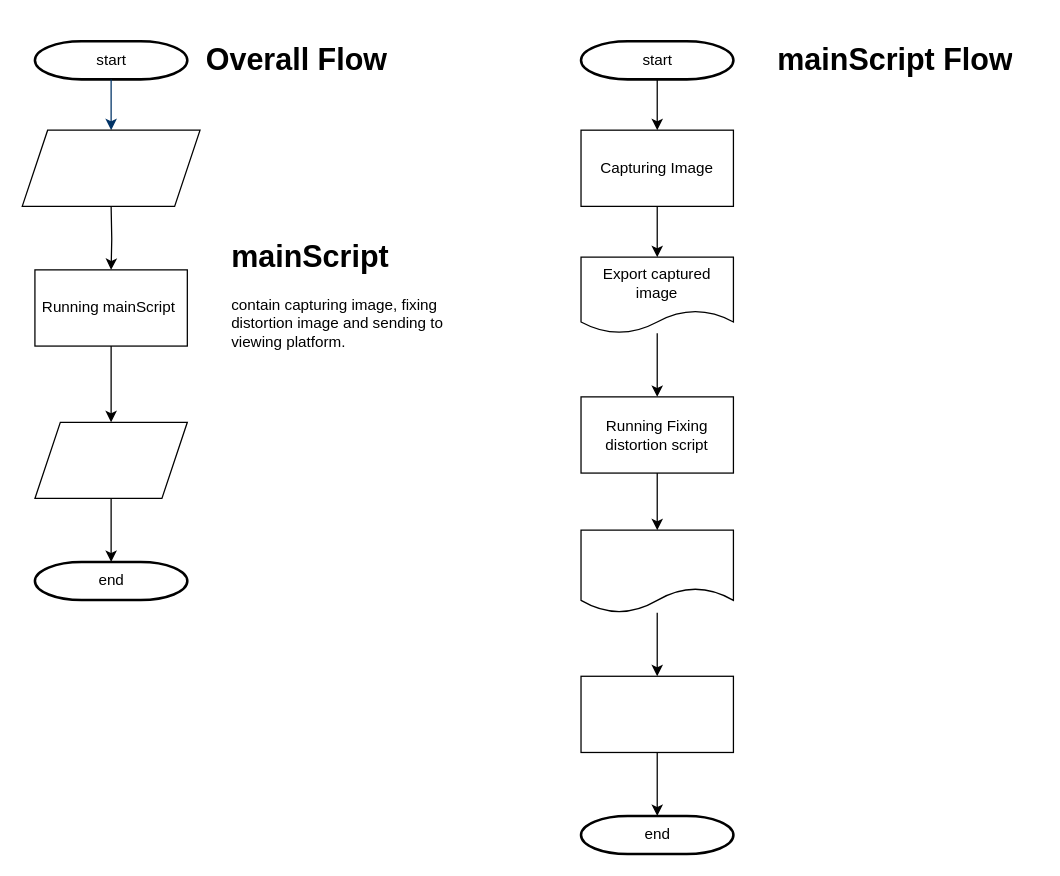
Some shapes in this 1060 by 876 pixel diagram are drawn without their labels. Here are the shapes that lost their labels. From the top down, the box of each, then its label:
(21, 129, 200, 206): Pressing Processing Button
(34, 421, 187, 498): Sending to viewing platform
(580, 529, 733, 613): Export undistorted image
(580, 675, 733, 752): Display on viewing platform
